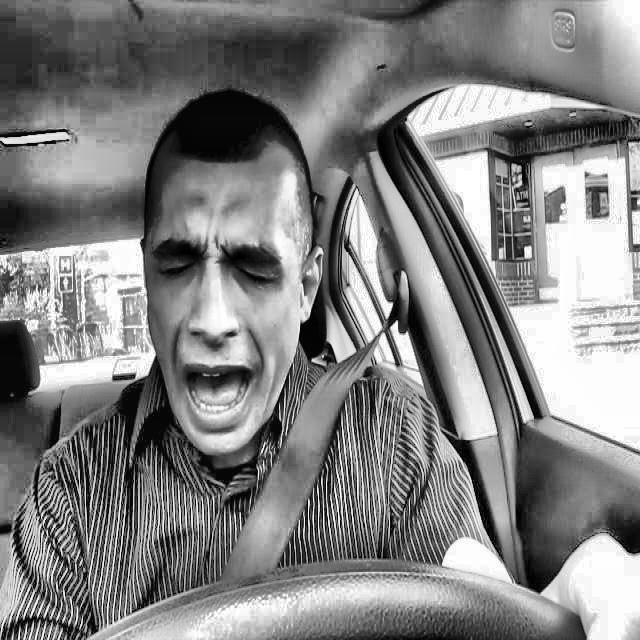closed_eyes: (147, 246, 201, 301), (227, 251, 281, 303)
open_mouth: (163, 350, 276, 446)
